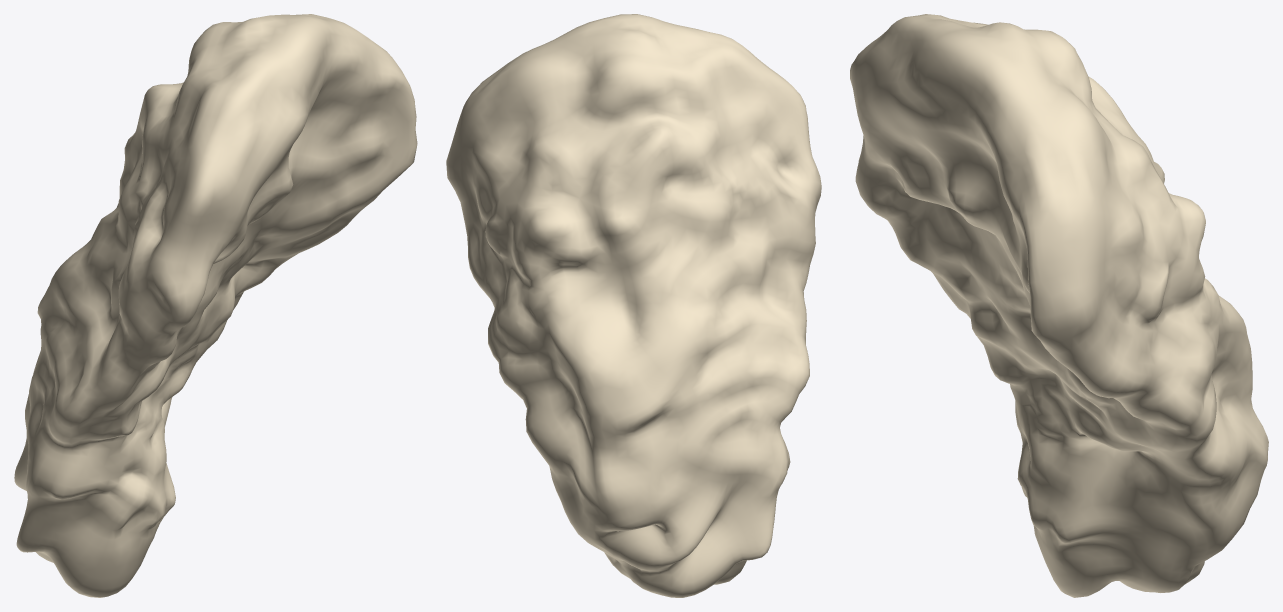
The model's file is 3d-vh-m-palatine-tonsil-r.glb.
3 renders of one model, left to right at view 1: azimuth 30°, elevation 25°; view 2: azimuth 150°, elevation 25°; view 3: azimuth 270°, elevation 25°, orthographic. The views are drawn at different scales.
Parts seen in each view (by area): view 1: VH_M_palatine_tonsil_R; view 2: VH_M_palatine_tonsil_R; view 3: VH_M_palatine_tonsil_R.
Part boxes in pixels (<box>): VH_M_palatine_tonsil_R: <box>14,14,417,597</box>; VH_M_palatine_tonsil_R: <box>446,14,821,597</box>; VH_M_palatine_tonsil_R: <box>850,14,1268,597</box>.
Size of the model in its own units: 0.0168 by 0.024 by 0.0144.
